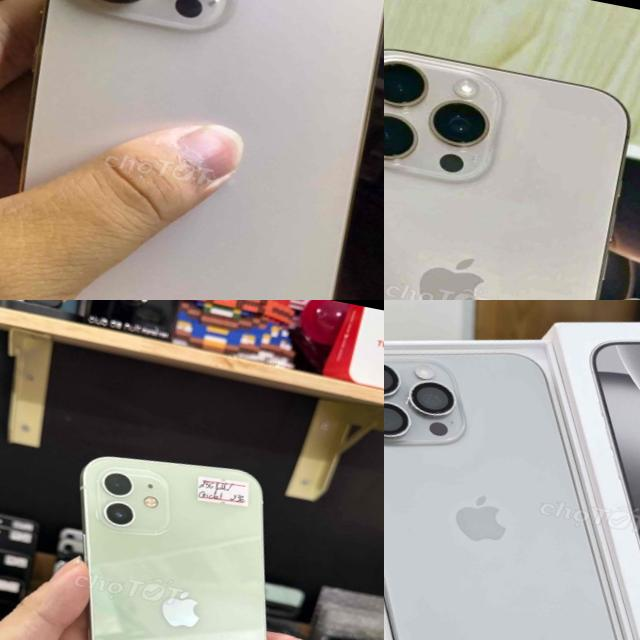gen_12_13: (0, 0, 384, 300), (20, 435, 332, 640)
gen_16: (384, 342, 619, 640), (384, 27, 640, 300)
